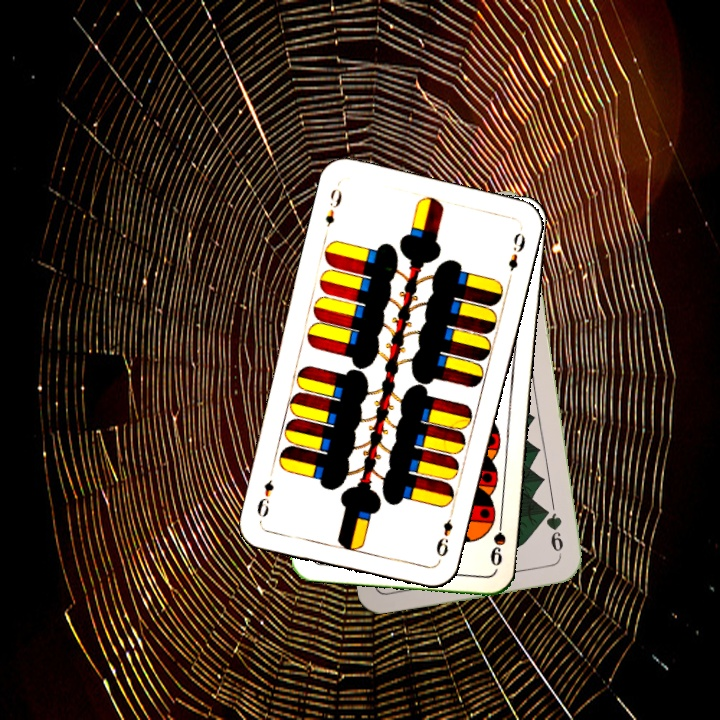E9: (432, 507, 457, 560), (321, 181, 345, 230)
G9: (540, 503, 566, 560)
S9: (484, 511, 509, 569)
